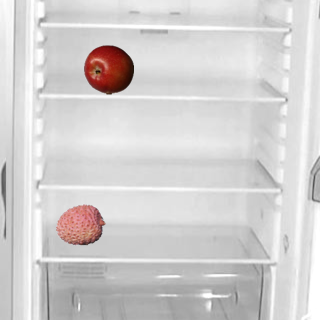Apple Braeburn: (83, 44, 133, 94)
Lychee: (55, 199, 105, 249)
